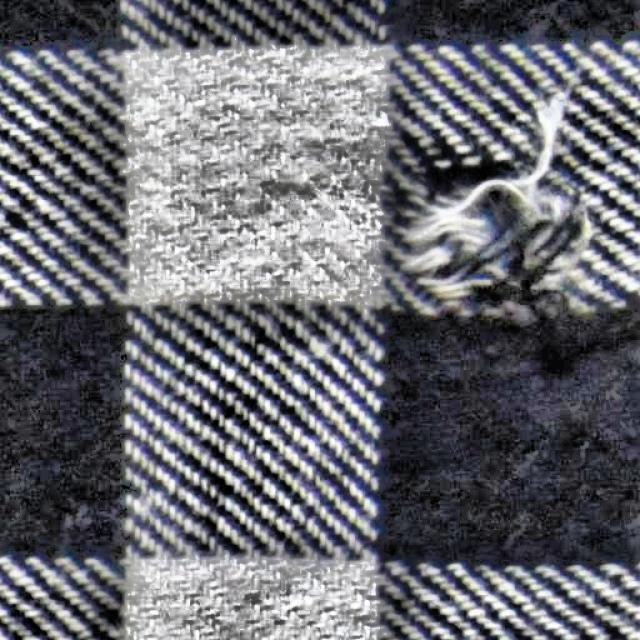cut: (358, 123, 588, 348)
